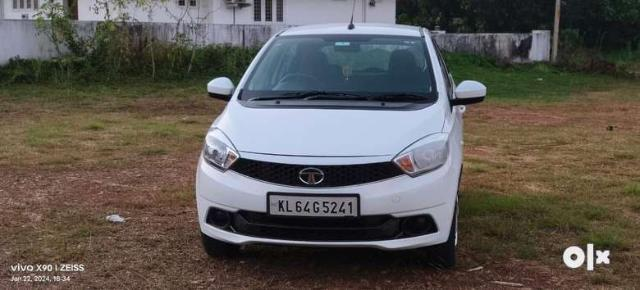Indian_Number_Plate: (268, 193, 359, 219)
